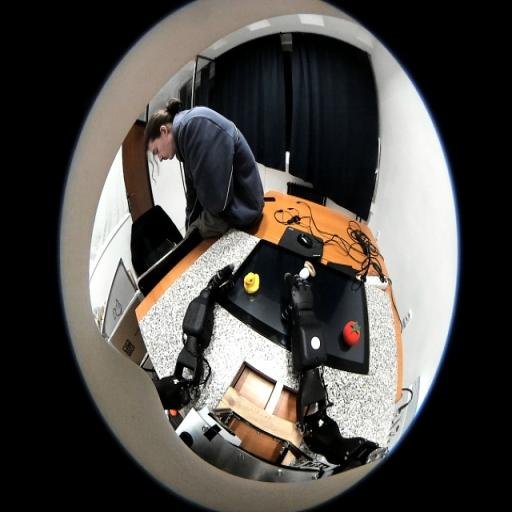Duck: (244, 272, 259, 293)
LeftHand: (207, 280, 220, 300)
Mushroom: (299, 261, 316, 280)
RightHand: (292, 290, 314, 304)
Tomato: (343, 321, 361, 346)
